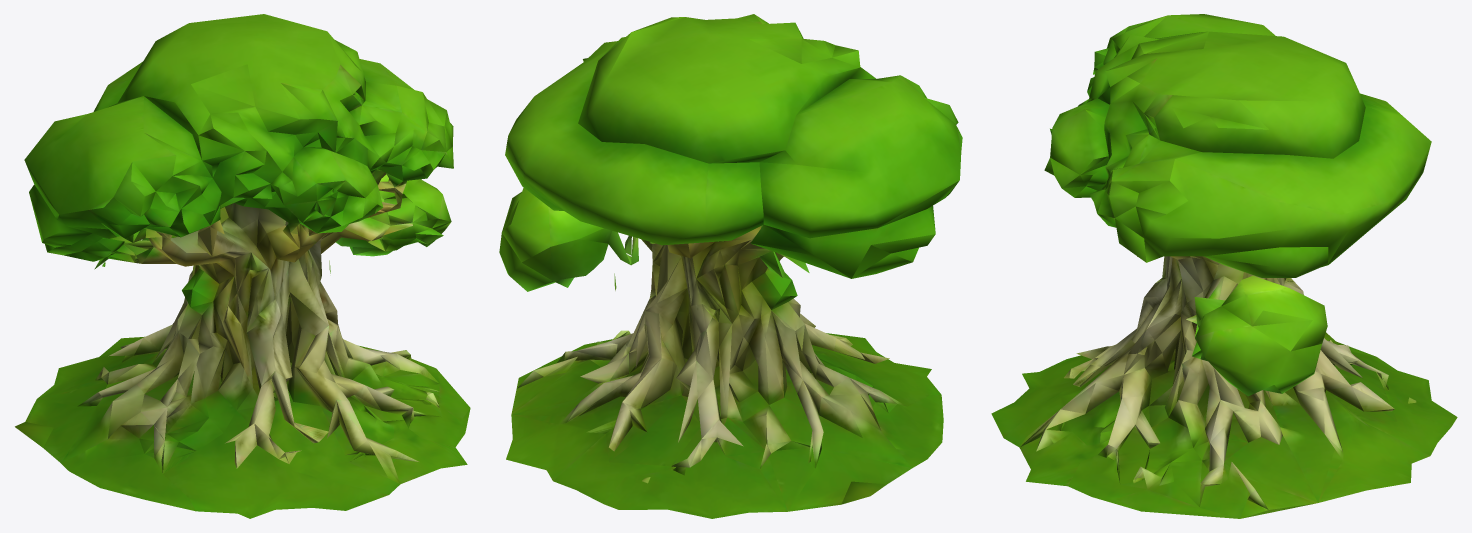
The model's file is m2GiantJungleTreeBg.glb.
3 views of the same model, side by side, from view 1: azimuth 30°, elevation 25°; view 2: azimuth 150°, elevation 25°; view 3: azimuth 270°, elevation 25° (orthographic). The views are drawn at different scales.
Parts seen in each view (by area): view 1: model; view 2: model; view 3: model.
Part boxes in pixels (left/top/right/bottom): model: left=15, top=14, right=470, bottom=518; model: left=499, top=14, right=962, bottom=518; model: left=991, top=14, right=1457, bottom=518.
Bounding box in the file's own units: 1.9 × 1.66 × 1.86.
Materials: 1 (1 with a texture image).
